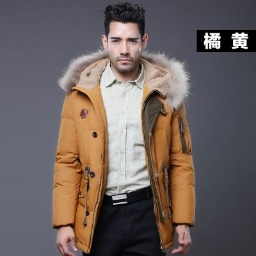face: (102, 2, 149, 73)
